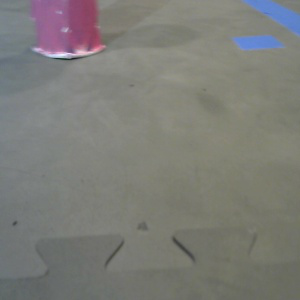middle: (31, 1, 109, 58)
